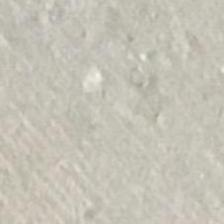Non_Crack: (47, 23, 206, 192)
